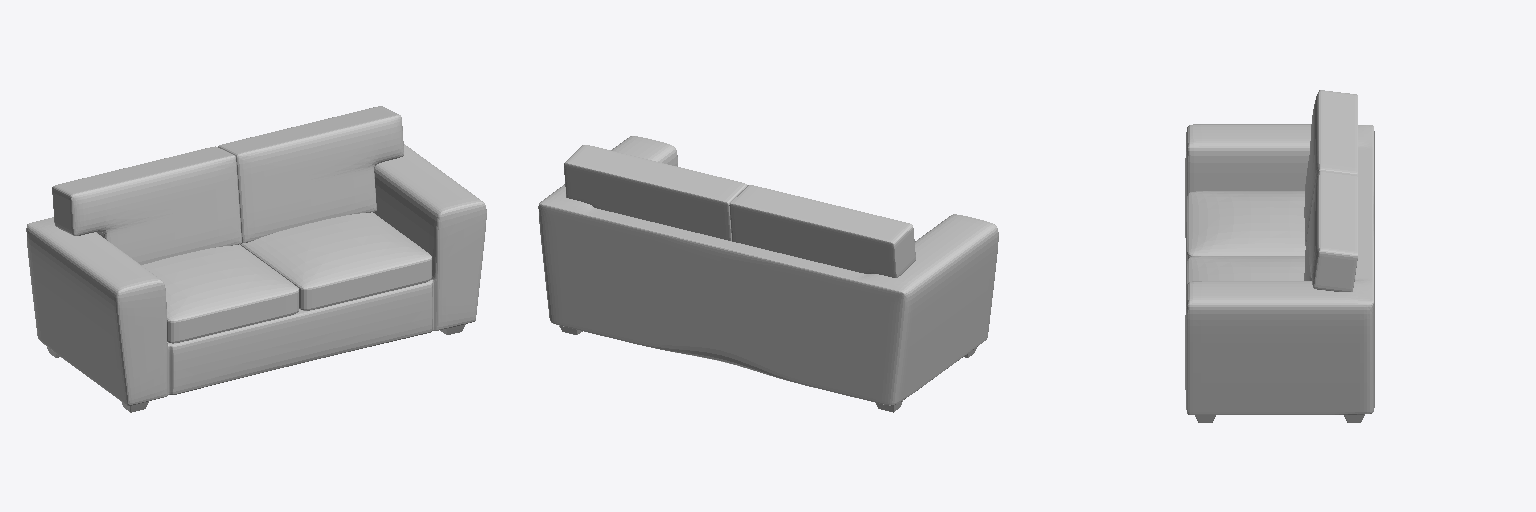
The model's file is merilin.obj.
3 views of the same model, side by side, from view 1: azimuth 30°, elevation 25°; view 2: azimuth 150°, elevation 25°; view 3: azimuth 270°, elevation 25° (orthographic).
Visible parts, largest first — view 1: polySurface2; view 2: polySurface2; view 3: polySurface2.
Part boxes in pixels (x1,y1,x2,y2): polySurface2: (26,106,486,412); polySurface2: (538,136,998,412); polySurface2: (1185,90,1374,422).
Bounding box in the file's own units: 4.97 × 2.22 × 2.2.